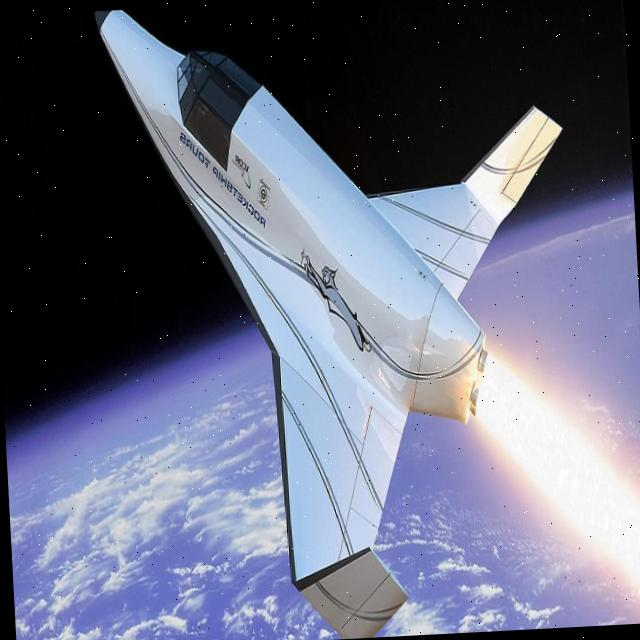rocket: (90, 9, 576, 640)
